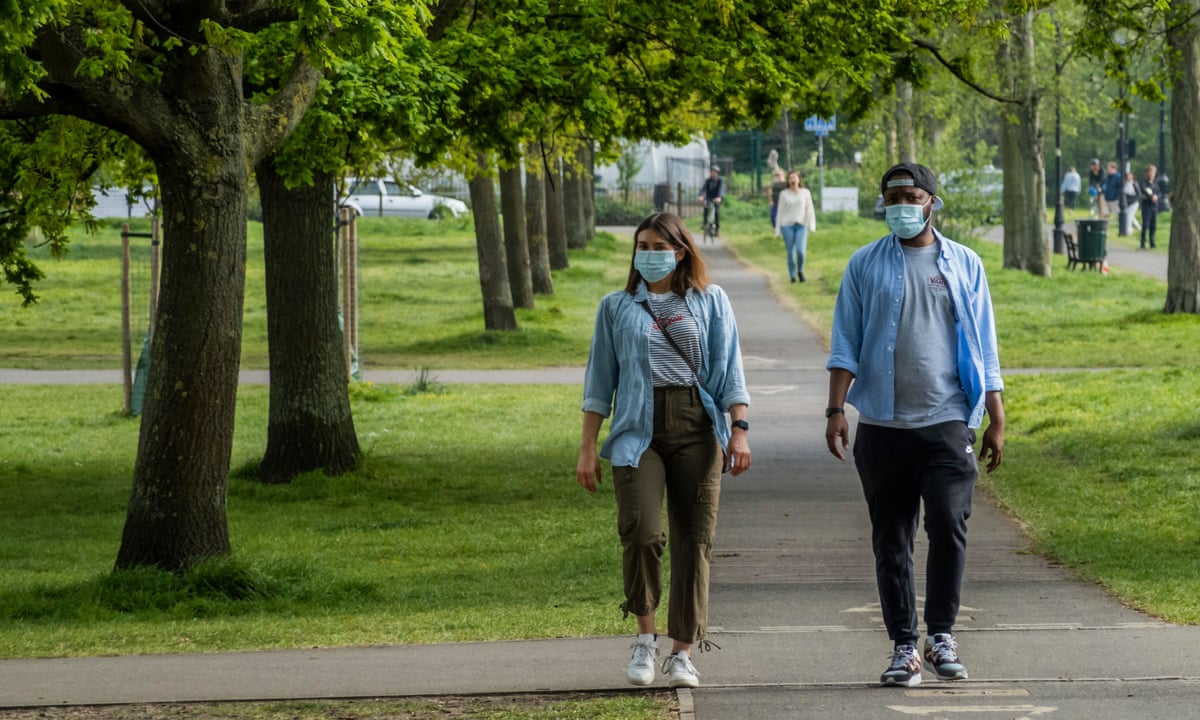person: (827, 164, 1004, 683), (582, 217, 752, 688)
